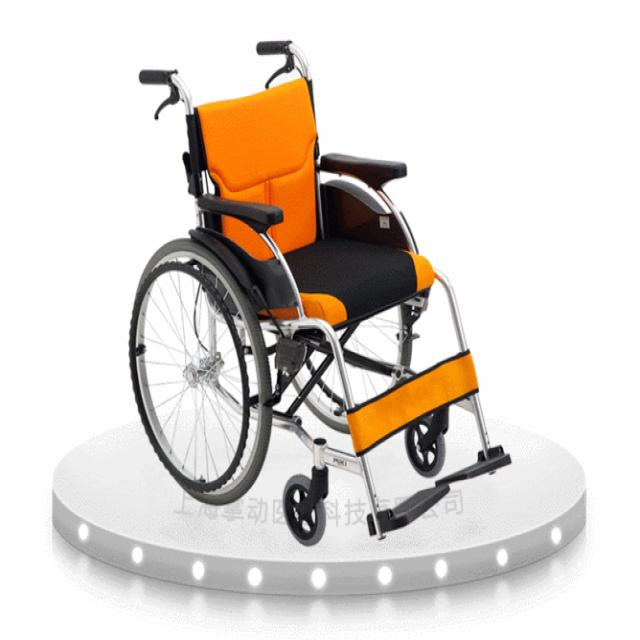wheelchairs: (115, 26, 519, 552)
